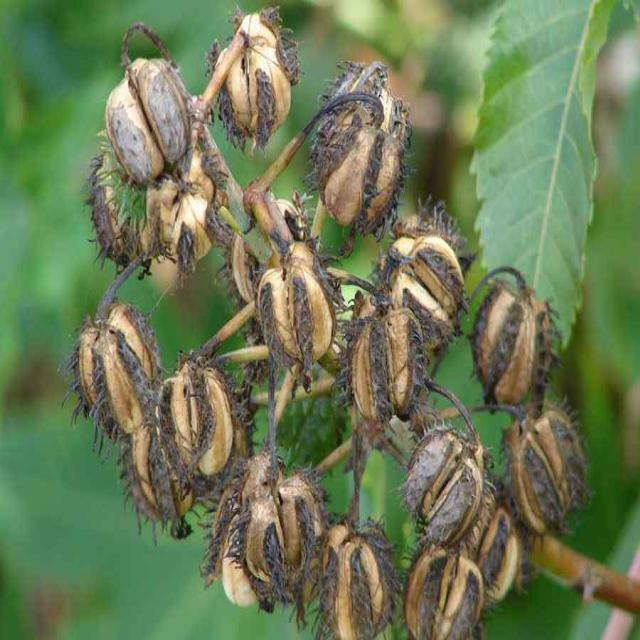Castor Oil Plant: (57, 23, 592, 640)
